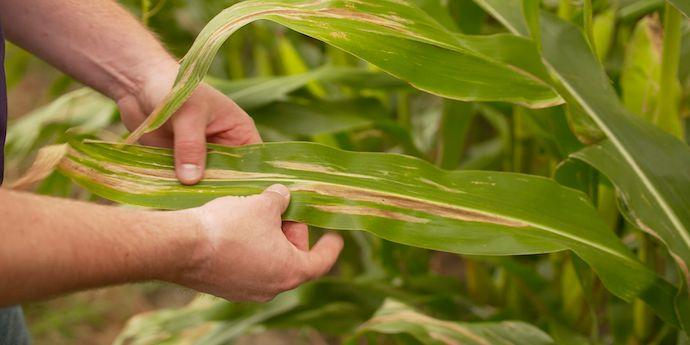Corn leaf blight: (48, 133, 651, 231), (151, 1, 543, 120)
